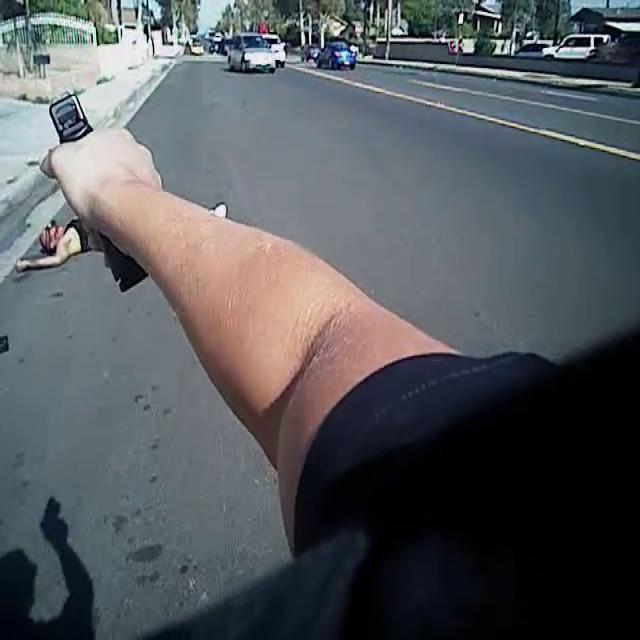gun: (34, 81, 185, 300)
